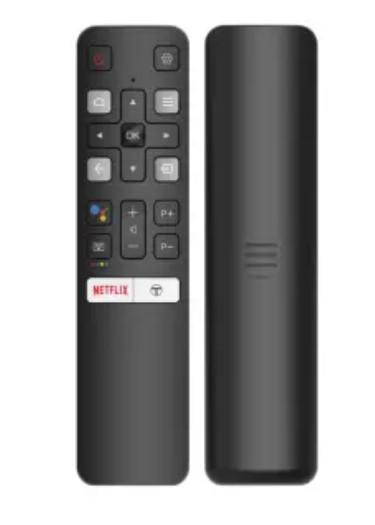Remote control: (203, 23, 320, 489), (74, 24, 190, 490)
